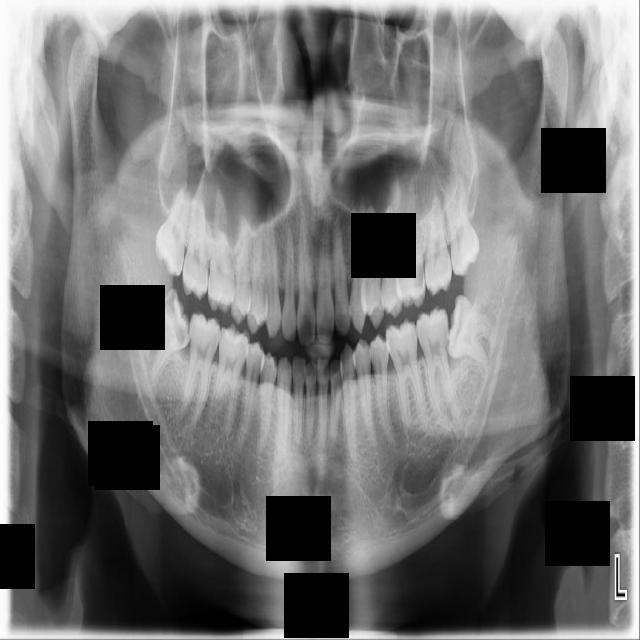3M ESPE Implant: (152, 185, 191, 279)
73: (598, 581, 610, 587)
BioHorizons Implant: (423, 173, 456, 296)
BioLife Implant: (441, 157, 482, 276)
Biomet 3i Implant: (441, 293, 503, 367)
Blue Sky Bio Implant: (414, 305, 458, 417)
Caries: (180, 174, 217, 302)
Implant: (178, 310, 223, 425)
Keystone Dental Implant: (126, 287, 209, 388)
